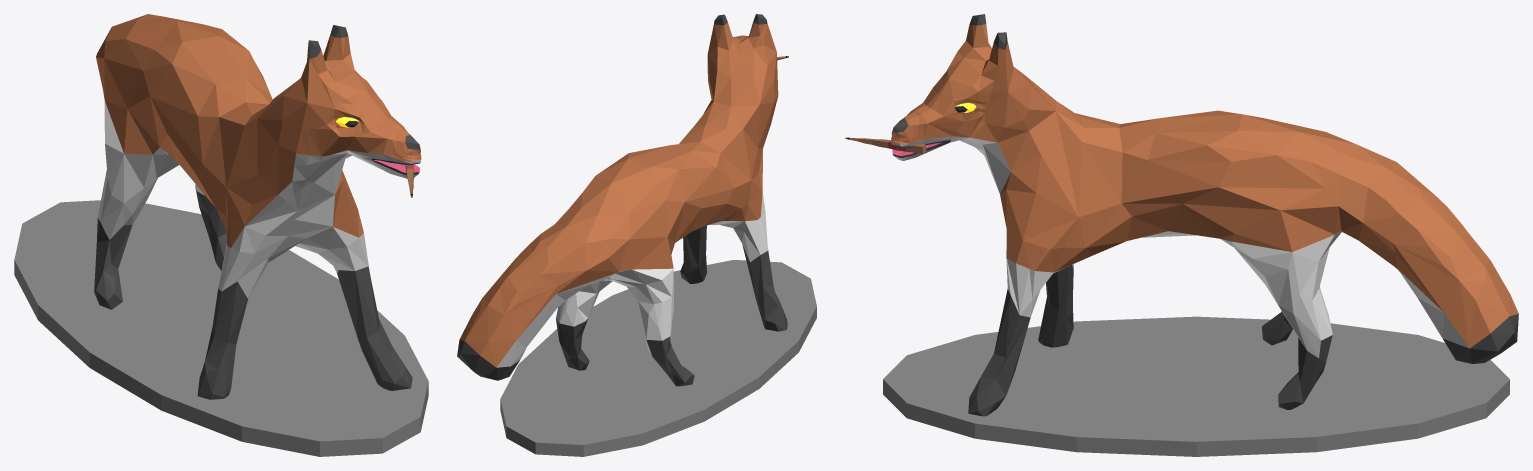
The model's file is fox.glb.
3 views of the same model, side by side, from view 1: azimuth 30°, elevation 25°; view 2: azimuth 150°, elevation 25°; view 3: azimuth 270°, elevation 25° (orthographic). The views are drawn at different scales.
Parts seen in each view (by area): view 1: Cliff.001; view 2: Cliff.001; view 3: Cliff.001.
Part boxes in pixels (x1=…): Cliff.001: x1=14, y1=14, x2=428, y2=456; Cliff.001: x1=457, y1=14, x2=816, y2=456; Cliff.001: x1=845, y1=14, x2=1518, y2=456.
Size of the model in its own units: 9.17 by 12.63 by 20.84.
